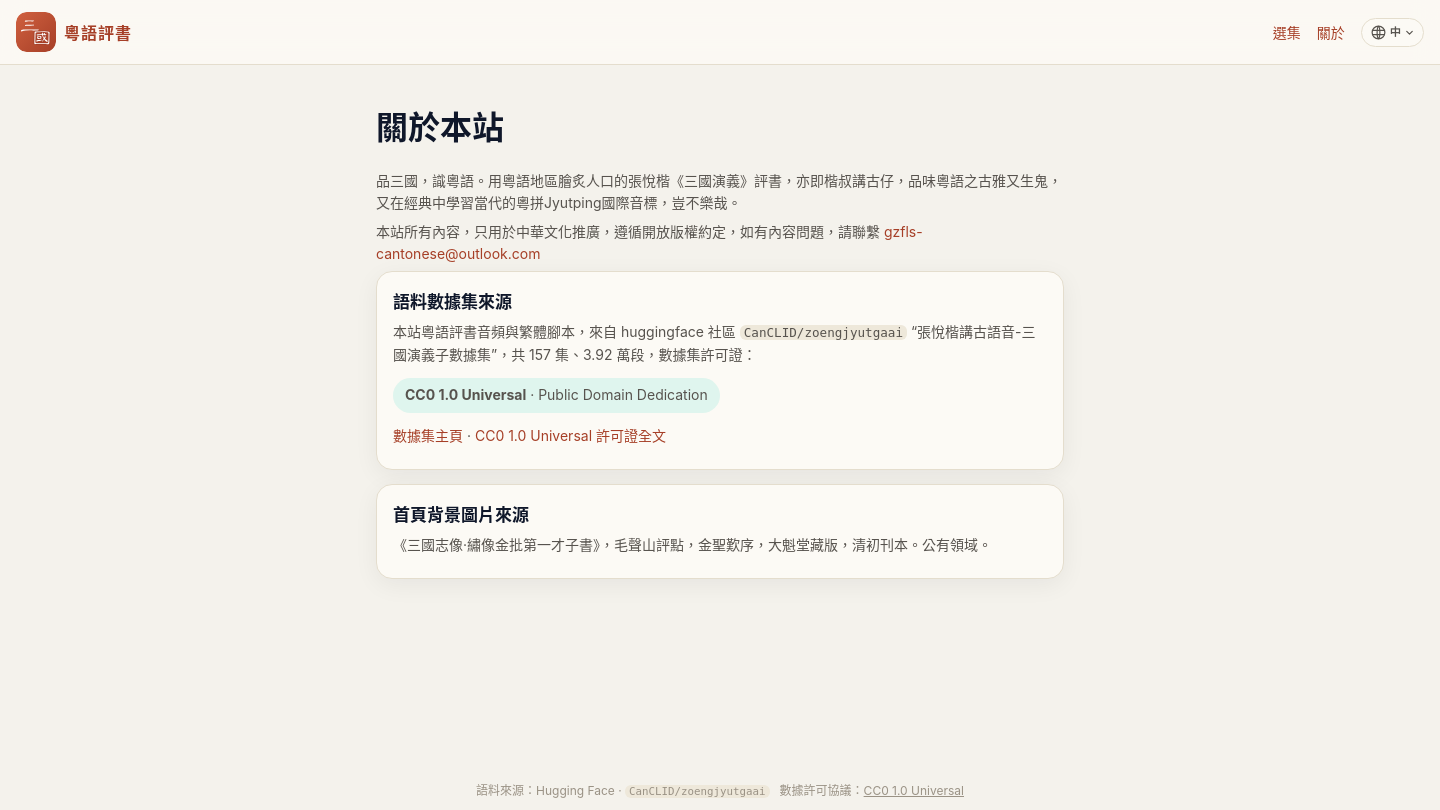
Test: App integration across routes › translates the about route
Expected: the heading "關於本站" is shown, [376,108,504,147]
Click the button "中" at point(1392, 32), box [1361,18,1424,46]
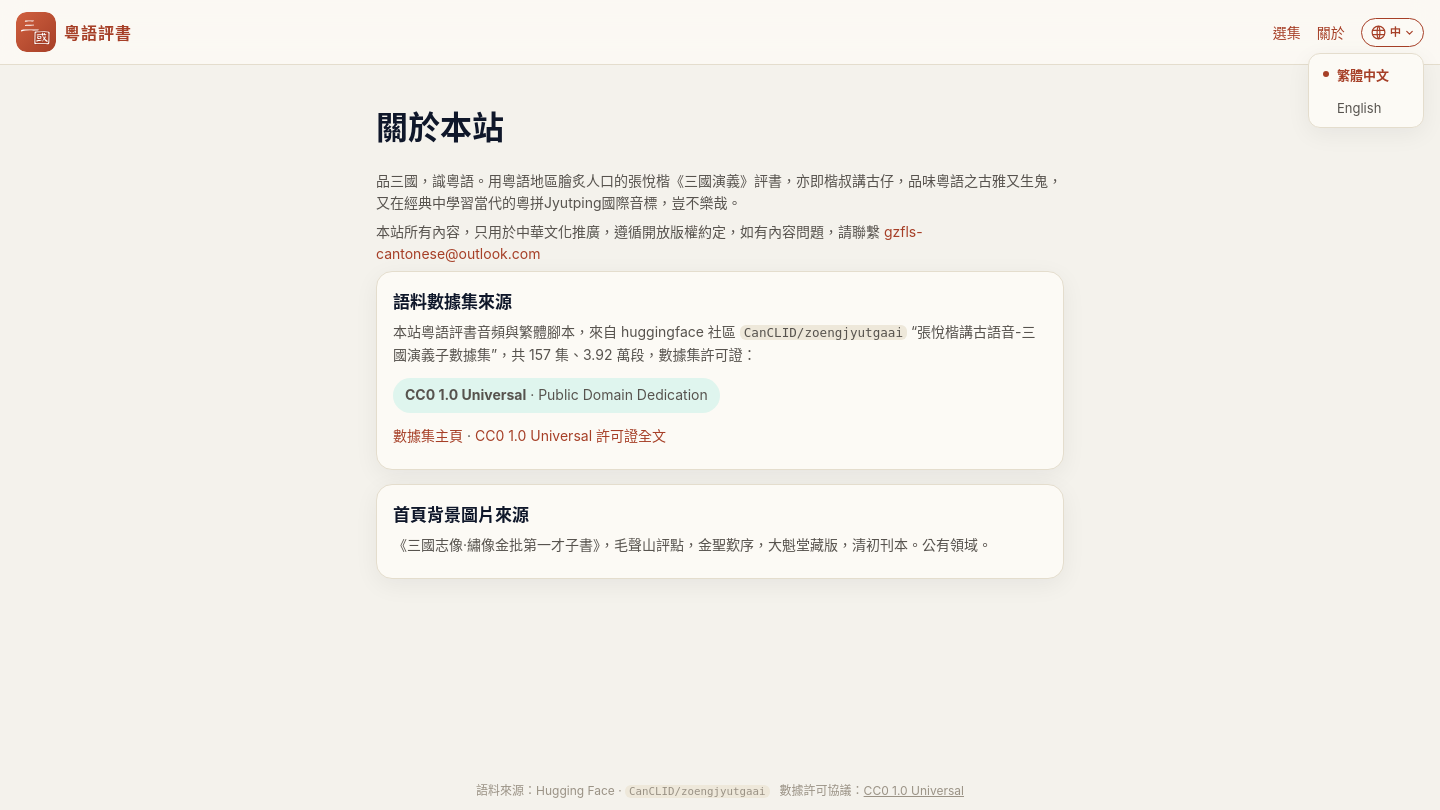
Click the button "English" at point(1366, 108), box [1313,92,1419,122]
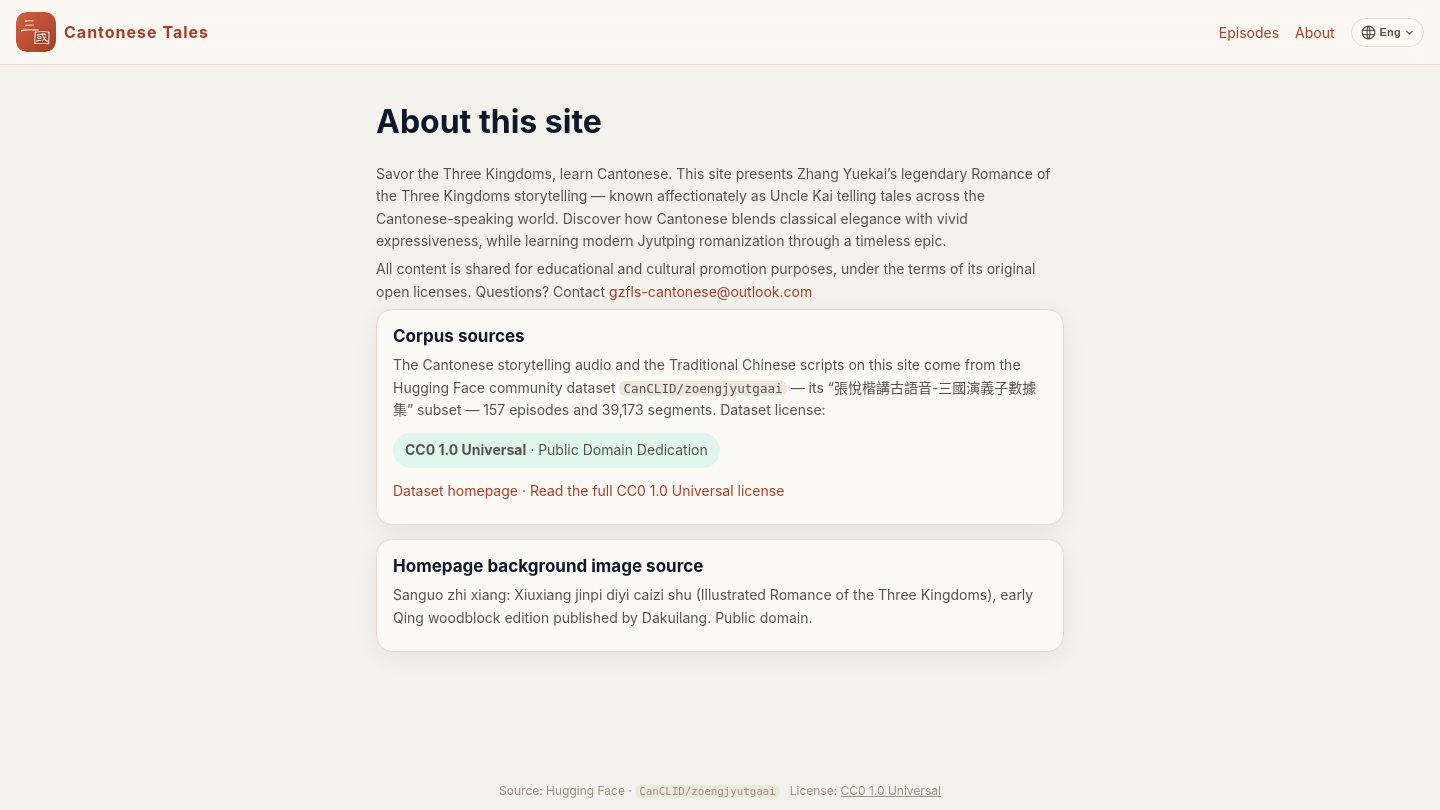
Expected: the heading "About this site" is shown, [376,102,602,141]
Expected: the link "Dataset homepage" is shown, [393,482,518,499]
